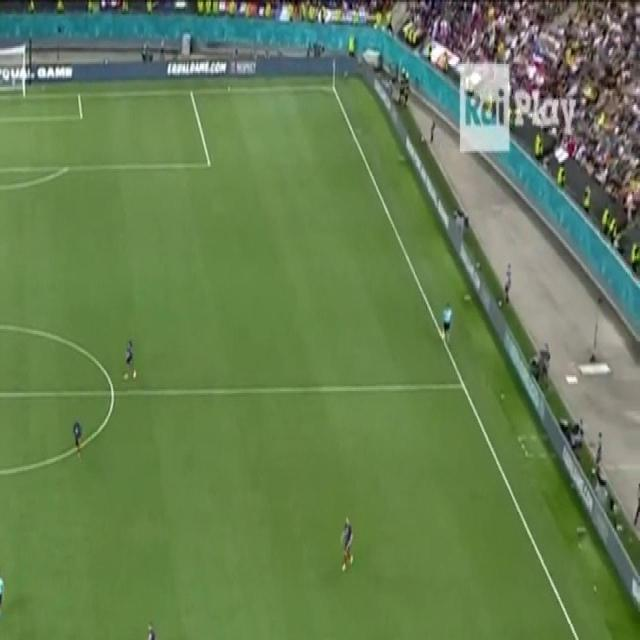player-white: (338, 513, 354, 575), (120, 338, 138, 386), (70, 412, 84, 466), (439, 300, 453, 350), (142, 615, 157, 640), (0, 567, 5, 629), (183, 638, 200, 640)
